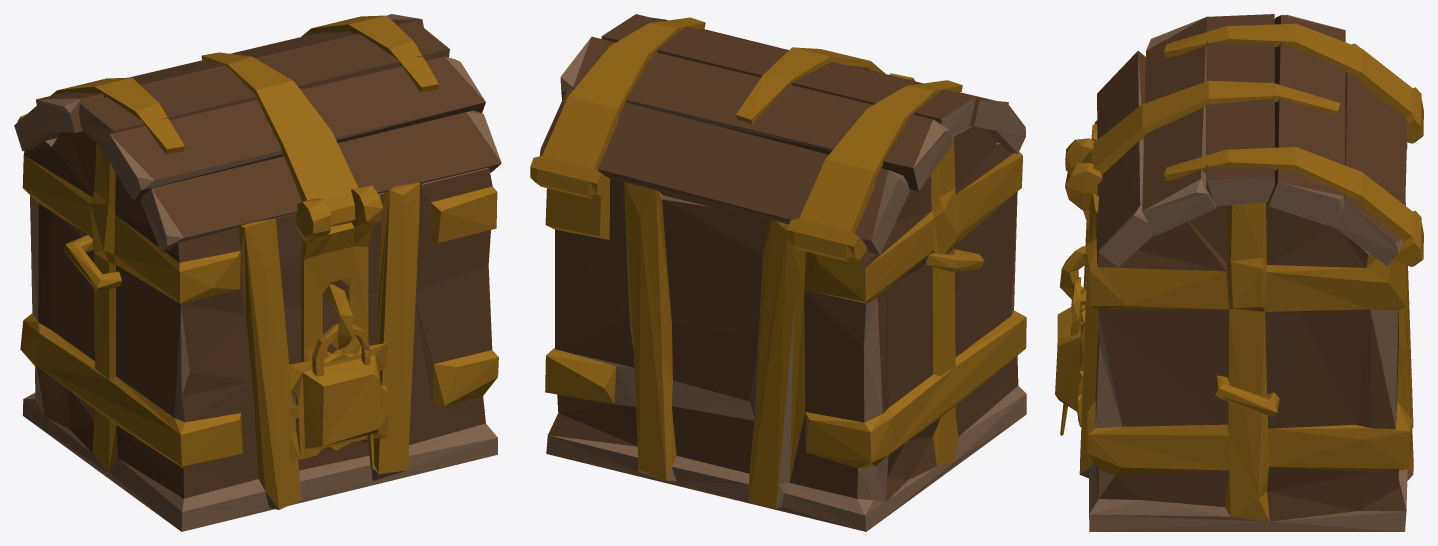
File: MDungeon_Chest_01_Sml.FBX
3 views of the same model, side by side, from view 1: azimuth 30°, elevation 25°; view 2: azimuth 150°, elevation 25°; view 3: azimuth 270°, elevation 25° (orthographic).
Visible parts, largest first — view 1: MDungeon_Chest_01_Sml_LOD0, MDungeon_Chest_01_Lid_Sml_LOD0, MDungeon_Chest_01_Latch_Sml_LOD0, MDungeon_Chest_01_Lock_Sml_LOD0, MDungeon_Chest_01_Bolt_Sml_LOD0; view 2: MDungeon_Chest_01_Sml_LOD0, MDungeon_Chest_01_Lid_Sml_LOD0; view 3: MDungeon_Chest_01_Sml_LOD0, MDungeon_Chest_01_Lid_Sml_LOD0, MDungeon_Chest_01_Lock_Sml_LOD0, MDungeon_Chest_01_Latch_Sml_LOD0, MDungeon_Chest_01_Bolt_Sml_LOD0.
Part boxes in pixels (x1,y1,x2,y2): MDungeon_Chest_01_Sml_LOD0: (20,131,498,531); MDungeon_Chest_01_Lid_Sml_LOD0: (14,14,501,252); MDungeon_Chest_01_Latch_Sml_LOD0: (296,185,383,362); MDungeon_Chest_01_Lock_Sml_LOD0: (288,343,388,460); MDungeon_Chest_01_Bolt_Sml_LOD0: (312,323,374,469); MDungeon_Chest_01_Sml_LOD0: (545,126,1026,531); MDungeon_Chest_01_Lid_Sml_LOD0: (530,14,1025,262); MDungeon_Chest_01_Sml_LOD0: (1060,120,1413,531); MDungeon_Chest_01_Lid_Sml_LOD0: (1082,14,1423,267); MDungeon_Chest_01_Lock_Sml_LOD0: (1055,288,1085,426); MDungeon_Chest_01_Latch_Sml_LOD0: (1065,138,1102,233); MDungeon_Chest_01_Bolt_Sml_LOD0: (1060,277,1081,435).
Size of what is drawn, in the model's own units: 1.24 by 1.19 by 1.09.
